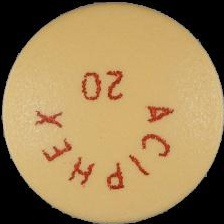49999-447: (0, 0, 224, 224)
